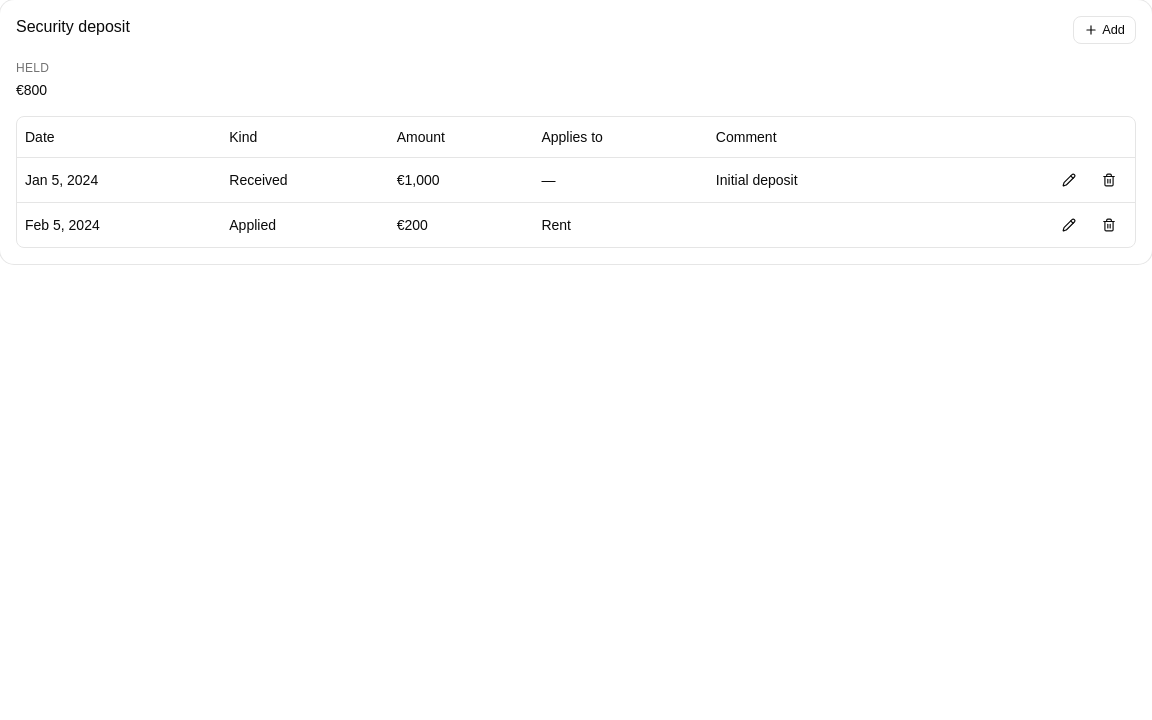
Test: SecurityDepositCard › opens the edit dialog from Edit
What coordinates should you click on to do the following:
click the button named "Edit" in the row of "Jan 5, 2024"
I would click on:
 (1069, 180)
Its box is top-left (1051, 166), bottom-right (1087, 194).
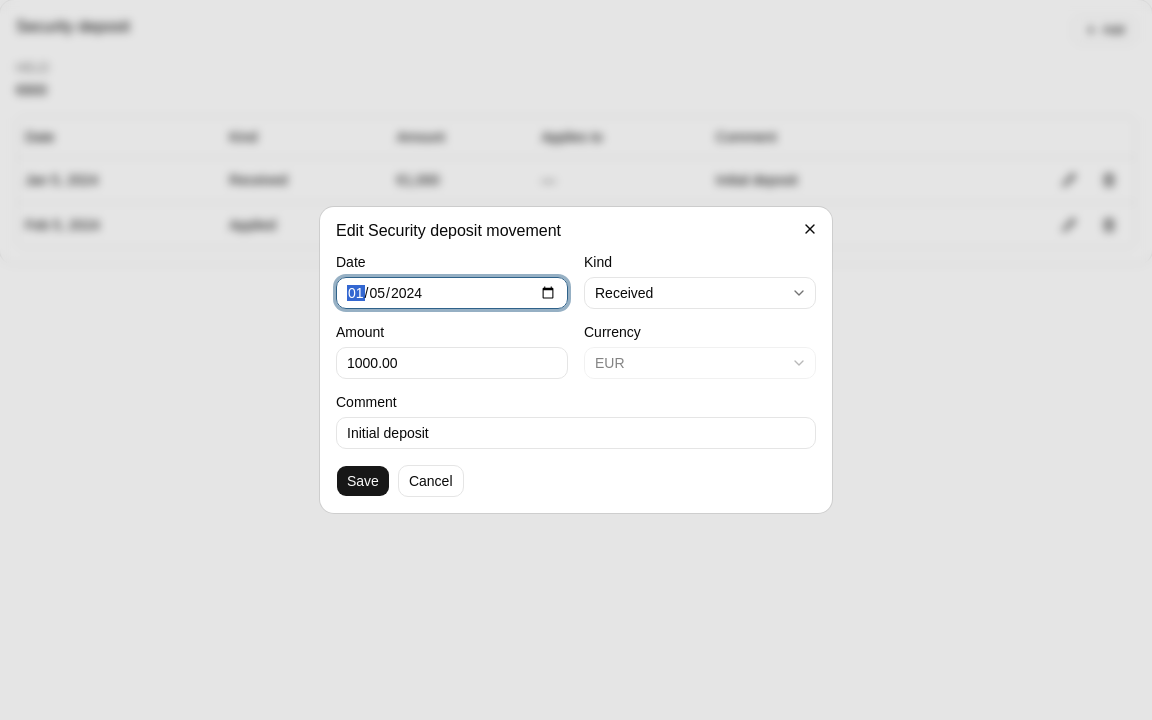
Expected: the heading "Edit Security deposit movement" is shown, top-left (336, 222), bottom-right (561, 239)
